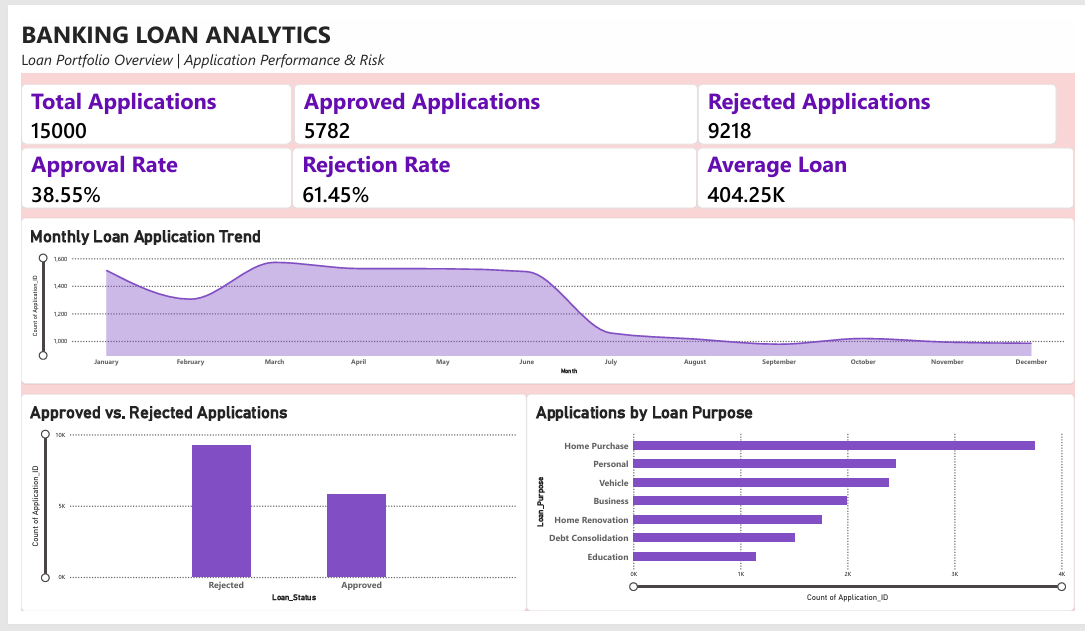

What the dashboard file says about the page in this screenshot:
{"tool":"powerbi","page":{"name":"Loan Portfolio Overview","canvas":[1920,1080],"ordinal":0},"visuals":[{"type":"textbox","box":[0,0,1919.1,100],"z":0},{"type":"cardVisual","fields":{"Data":["LoanData_Cleaned.Total Application"]},"box":[0,119.1,493.6,106.4],"z":1000},{"type":"cardVisual","fields":{"Data":["LoanData_Cleaned.Average Loan"]},"box":[1231.9,236.2,687.2,110.6],"z":2000},{"type":"cardVisual","fields":{"Data":["LoanData_Cleaned.Declined Rate"]},"box":[493.6,236.2,738.3,110.6],"z":3000},{"type":"cardVisual","fields":{"Data":["LoanData_Cleaned.Approval Rate"]},"box":[0,236.2,493.6,110.6],"z":4000},{"type":"cardVisual","fields":{"Data":["LoanData_Cleaned.Approved Applications"]},"box":[493.6,119.1,738.3,106.4],"z":5000},{"type":"cardVisual","fields":{"Data":["LoanData_Cleaned.Rejected Application"]},"box":[1231.9,119.1,687.2,106.4],"z":6000},{"type":"lineChart","fields":{"Category":["LoanData_Cleaned.Application_Date.Variation.Date Hierarchy.Month"],"Y":["CountNonNull(LoanData_Cleaned.Application_ID)"]},"box":[0,363.8,1919.1,302.1],"z":7000},{"type":"clusteredColumnChart","title":"Approved vs. Rejected Applications","fields":{"Category":["LoanData_Cleaned.Loan_Status"],"Y":["CountNonNull(LoanData_Cleaned.Application_ID)"]},"box":[0,685.1,921.3,395.7],"z":8000},{"type":"clusteredBarChart","fields":{"Category":["LoanData_Cleaned.Loan_Purpose"],"Y":["CountNonNull(LoanData_Cleaned.Application_ID)"]},"box":[921,685,998,395],"z":9000}]}

Visuals, with their boxes on the page's 1920x1080 design canvas (x1, y1, x2, y2). These are canvas units, not pixel positions in the 1085x631 screenshot, which may show the page scaled, cropped or inside an application window:
textbox: [left=0, top=0, right=1919, bottom=100]
cardVisual - LoanData_Cleaned.Total Application: [left=0, top=119, right=494, bottom=226]
cardVisual - LoanData_Cleaned.Average Loan: [left=1232, top=236, right=1919, bottom=347]
cardVisual - LoanData_Cleaned.Declined Rate: [left=494, top=236, right=1232, bottom=347]
cardVisual - LoanData_Cleaned.Approval Rate: [left=0, top=236, right=494, bottom=347]
cardVisual - LoanData_Cleaned.Approved Applications: [left=494, top=119, right=1232, bottom=226]
cardVisual - LoanData_Cleaned.Rejected Application: [left=1232, top=119, right=1919, bottom=226]
lineChart - LoanData_Cleaned.Application_Date.Variation.Date Hierarchy.Month x CountNonNull(LoanData_Cleaned.Application_ID): [left=0, top=364, right=1919, bottom=666]
"Approved vs. Rejected Applications" clusteredColumnChart: [left=0, top=685, right=921, bottom=1081]
clusteredBarChart - LoanData_Cleaned.Loan_Purpose x CountNonNull(LoanData_Cleaned.Application_ID): [left=921, top=685, right=1919, bottom=1080]
